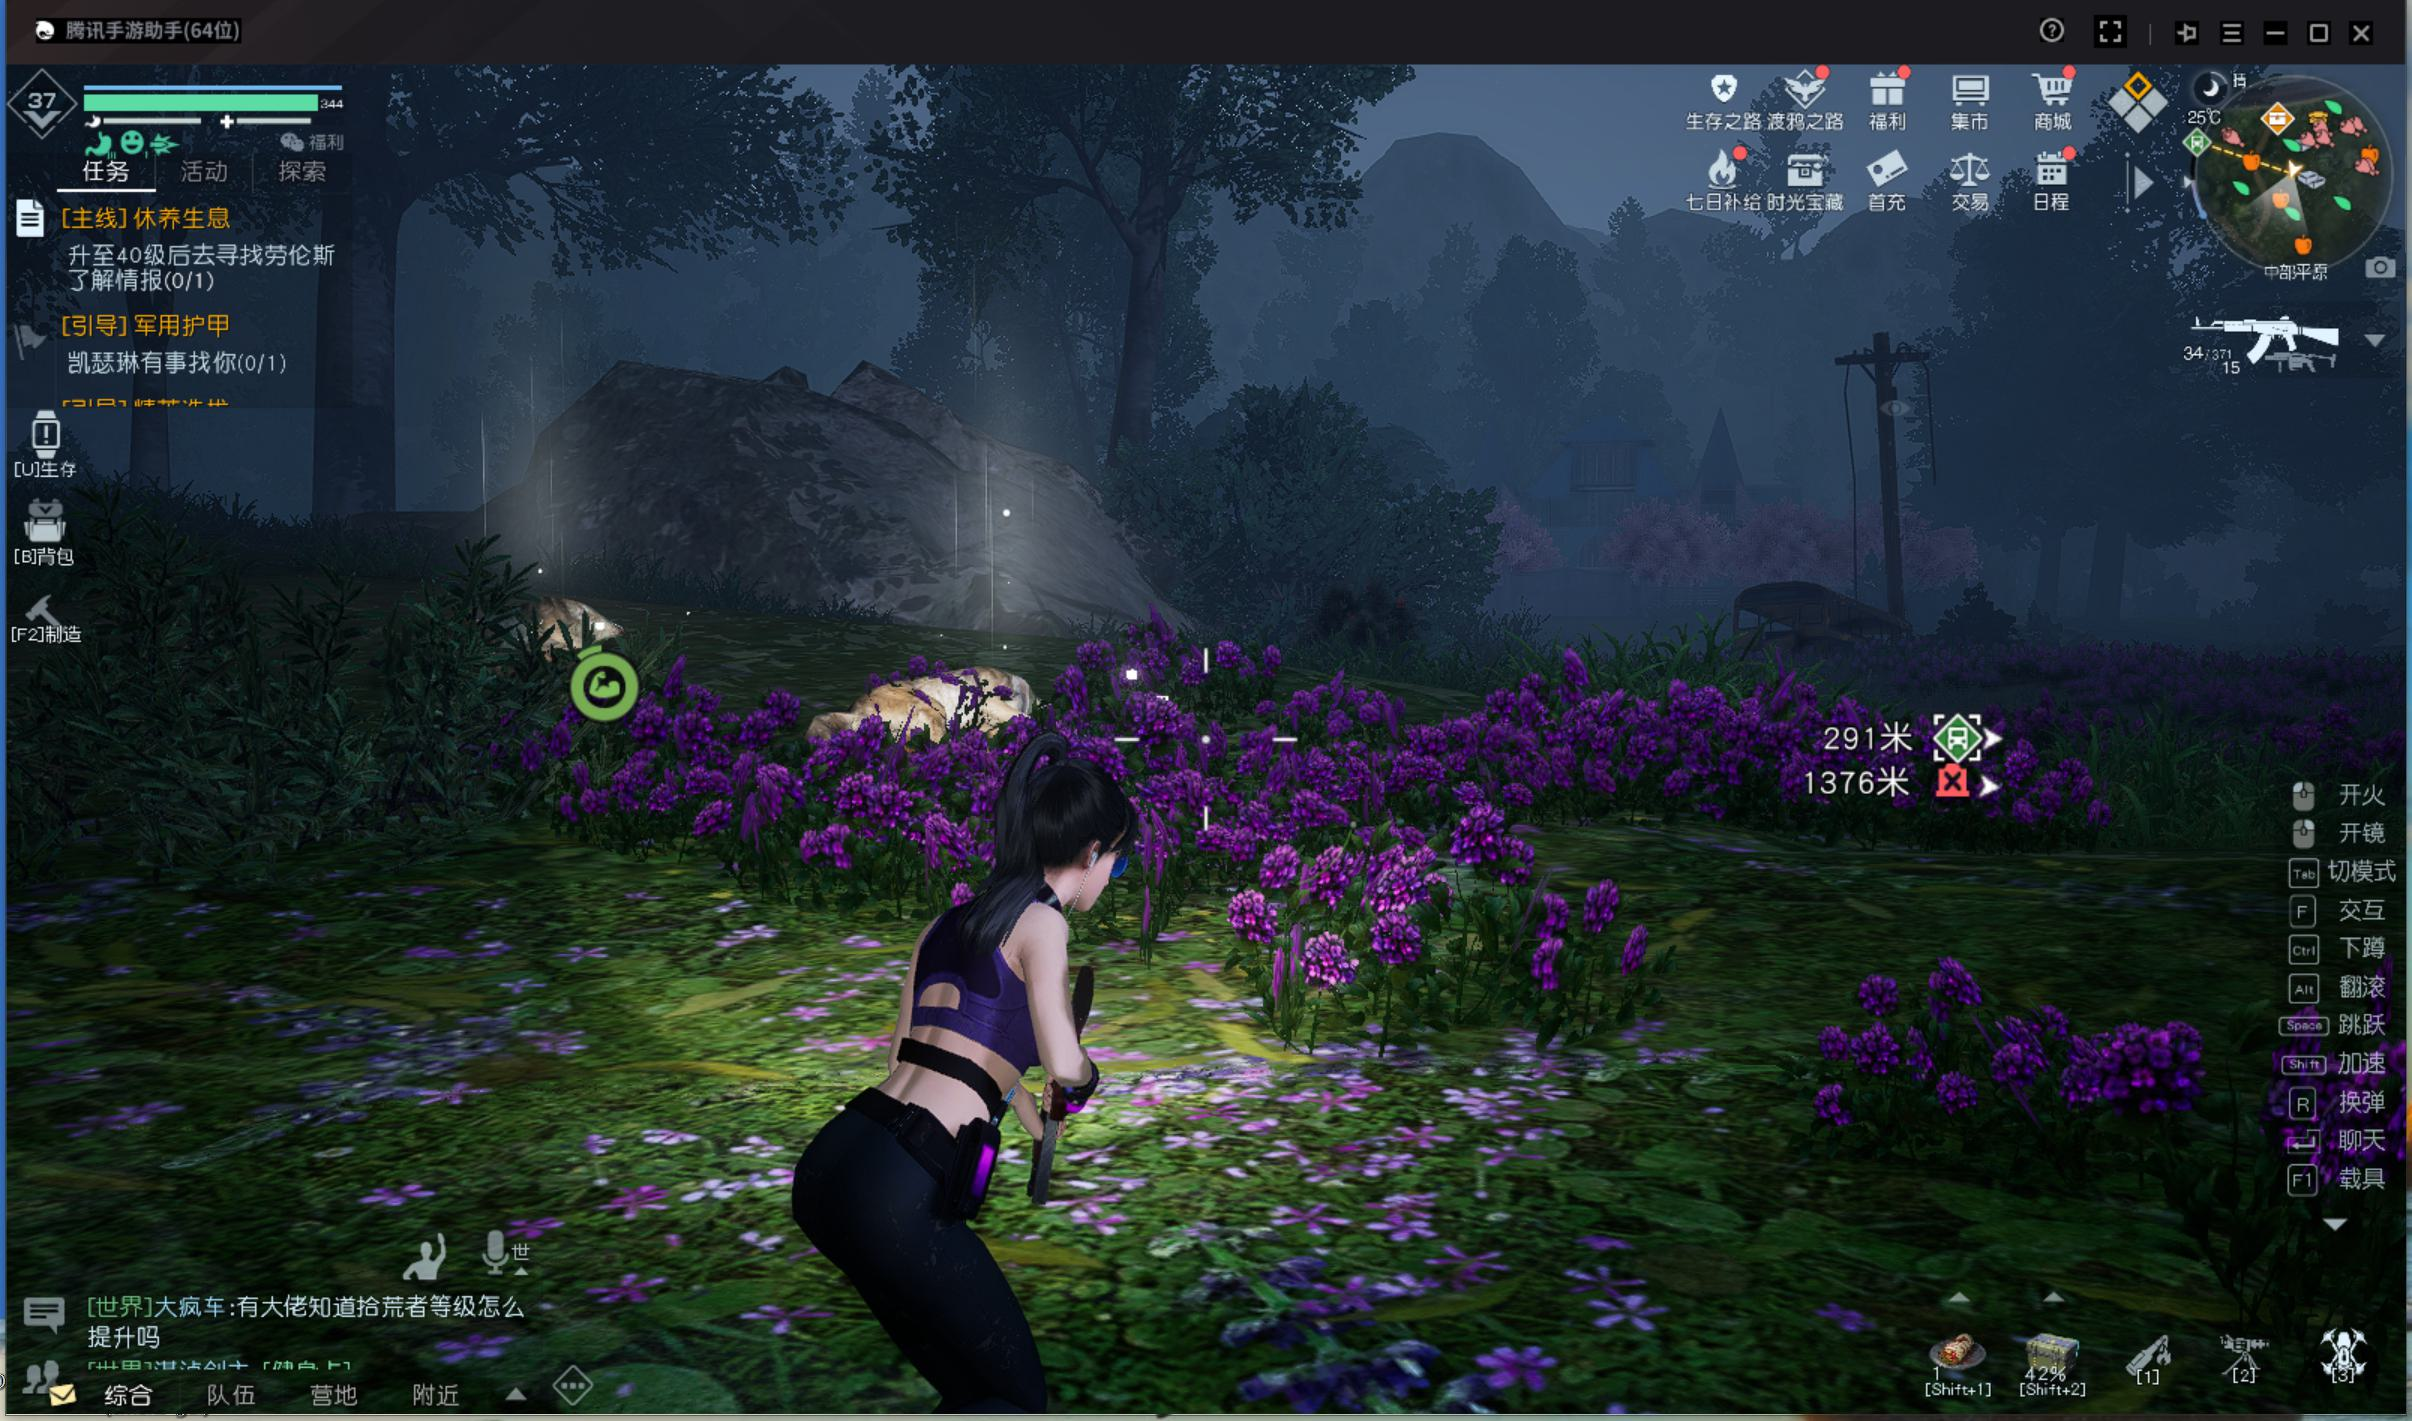tree: (301, 206, 411, 546), (1116, 227, 1177, 528), (2086, 533, 2135, 629)
